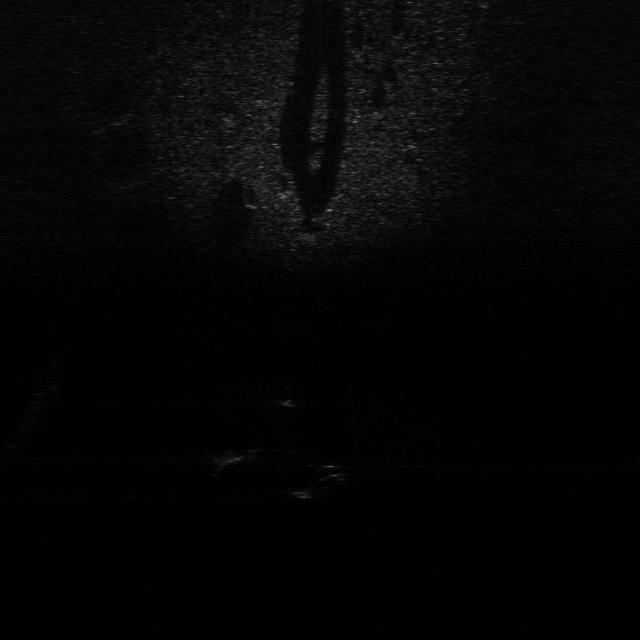ball: (277, 385, 308, 410)
square cage: (208, 437, 266, 471)
tyre: (290, 457, 350, 505)
